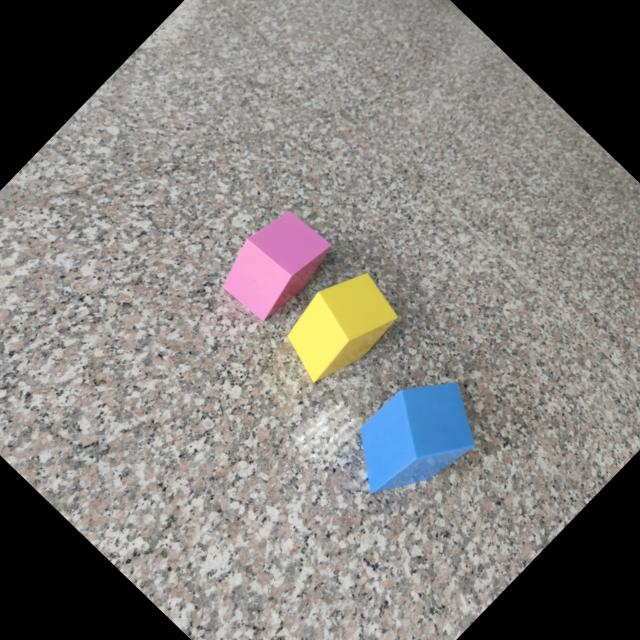blue: (357, 383, 472, 496)
pink: (221, 213, 330, 321)
yellow: (286, 274, 397, 384)
